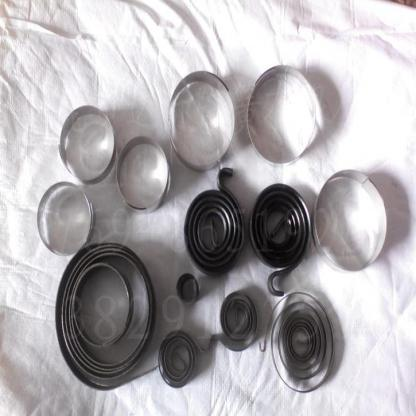FOD: (51, 236, 186, 392), (259, 289, 338, 394), (181, 163, 246, 280), (249, 178, 312, 298), (206, 288, 260, 358), (156, 327, 206, 390), (175, 269, 200, 310)
